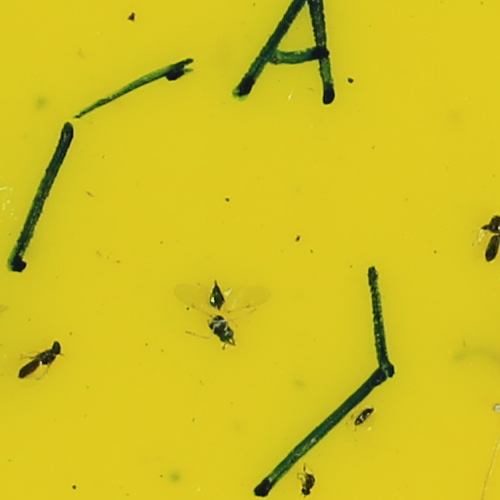Psyllaephagus: (205, 284, 237, 345)
